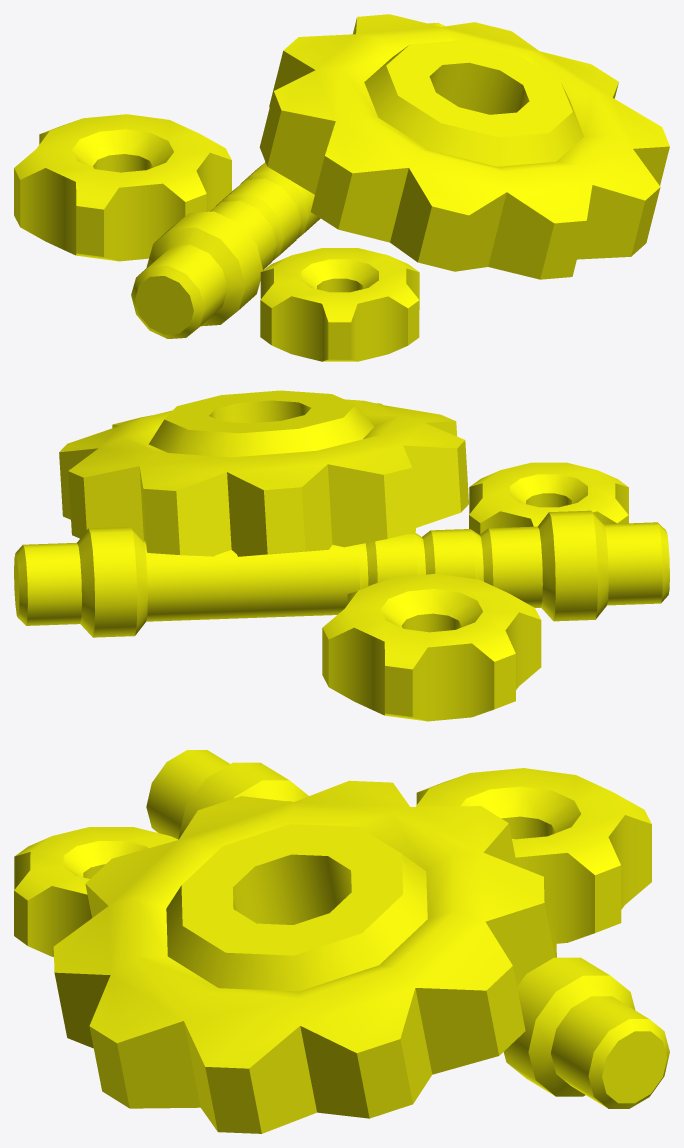
The model's file is kaykit-parts-pile-small.glb.
The picture shows the model from 3 angles, top to bottom: view 1: azimuth 30°, elevation 25°; view 2: azimuth 150°, elevation 25°; view 3: azimuth 270°, elevation 25°; orthographic projection. The views are drawn at different scales.
Visible parts, largest first — view 1: Parts_Pile_Small; view 2: Parts_Pile_Small; view 3: Parts_Pile_Small.
Boxes of the visible parts, x1=… form: Parts_Pile_Small: x1=14, y1=14, x2=669, y2=361; Parts_Pile_Small: x1=14, y1=390, x2=669, y2=721; Parts_Pile_Small: x1=14, y1=750, x2=669, y2=1133.
Size of the model in its own units: 1.16 by 0.3344 by 0.991.
